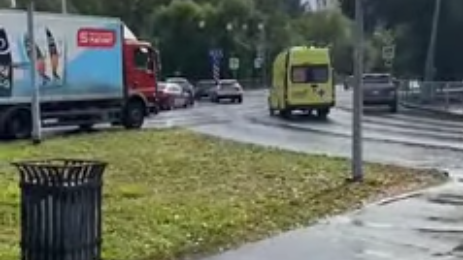intensive care unit: (269, 45, 337, 123)
non emergency car: (0, 12, 156, 136), (360, 72, 397, 114), (211, 77, 243, 104)
